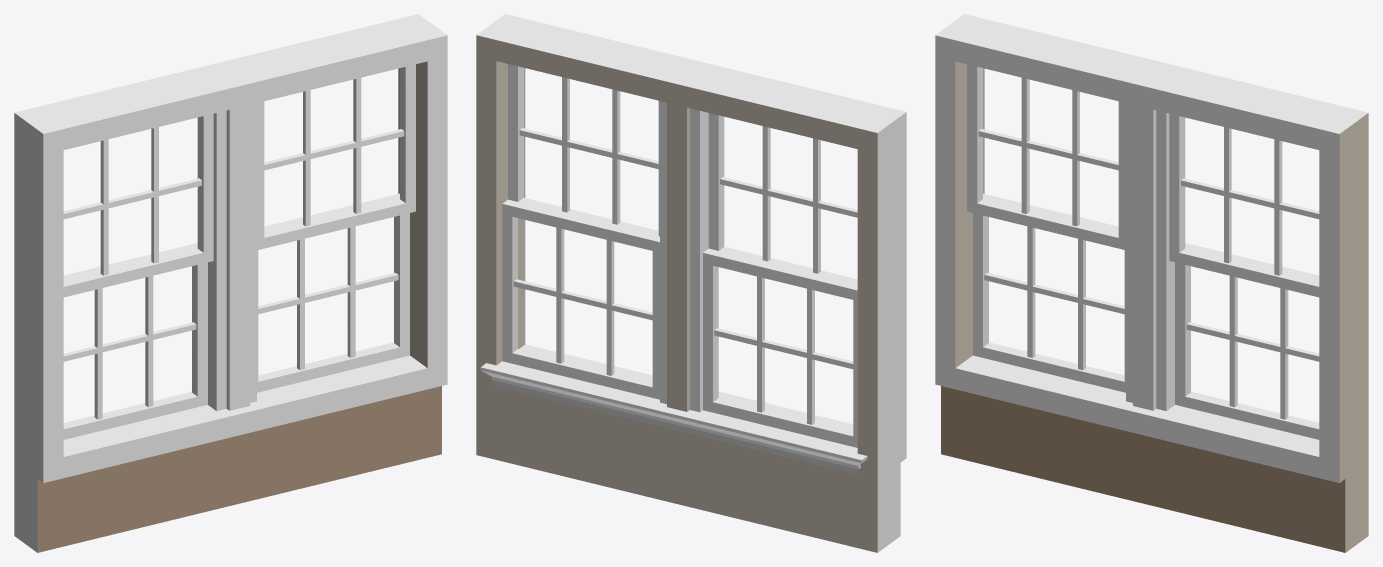
The model's file is Structure_Exterior_Window_Double.glb.
3 views of the same model, side by side, from view 1: azimuth 30°, elevation 25°; view 2: azimuth 150°, elevation 25°; view 3: azimuth 330°, elevation 25° (orthographic).
Parts seen in each view (by area): view 1: object5, object1, object2, object4, object3; view 2: object5, object2, object4, object1, object3; view 3: object5, object3, object4, object2, object1.
Boxes of the visible parts, bbox=[...] form: object5: bbox=[14, 14, 447, 552]; object1: bbox=[257, 64, 415, 250]; object2: bbox=[257, 193, 409, 392]; object4: bbox=[63, 243, 207, 439]; object3: bbox=[63, 113, 213, 297]; object5: bbox=[476, 14, 906, 552]; object2: bbox=[502, 199, 659, 399]; object4: bbox=[703, 248, 857, 447]; object1: bbox=[508, 64, 659, 236]; object3: bbox=[708, 113, 857, 284]; object5: bbox=[935, 14, 1368, 552]; object3: bbox=[967, 64, 1125, 250]; object4: bbox=[973, 193, 1125, 392]; object2: bbox=[1175, 243, 1319, 439]; object1: bbox=[1169, 113, 1319, 297].
Bounding box in the file's own units: 2 × 2 × 0.3.
